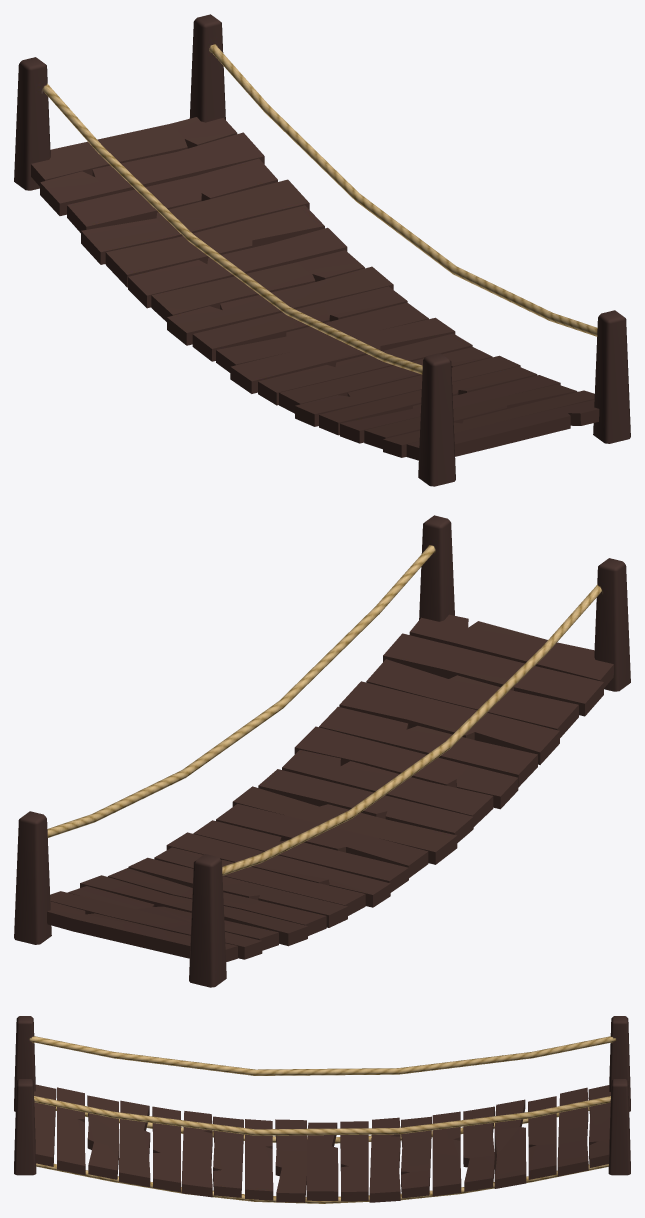
Rendered from PLF0110144.fbx.
3 views of the same model, one above another, from view 1: azimuth 30°, elevation 25°; view 2: azimuth 150°, elevation 25°; view 3: azimuth 270°, elevation 25° (orthographic). The views are drawn at different scales.
Visible parts, largest first — view 1: smPLF0110144; view 2: smPLF0110144; view 3: smPLF0110144.
Part boxes in pixels (box(x1,y1,x2,y2)): smPLF0110144: box(14, 14, 630, 486); smPLF0110144: box(14, 515, 630, 987); smPLF0110144: box(14, 1016, 630, 1203).
Bounding box in the file's own units: 237 × 181 × 830.
Materials: 1 (1 with a texture image).
